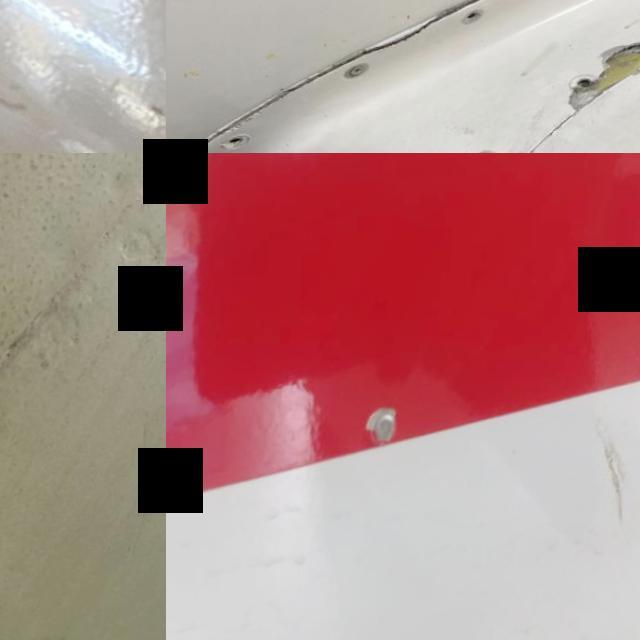Crack: (553, 387, 640, 592), (364, 352, 450, 504), (166, 77, 302, 153), (568, 39, 640, 125), (358, 12, 456, 64)
Missing_Fastener: (224, 136, 255, 152), (463, 13, 487, 32)
